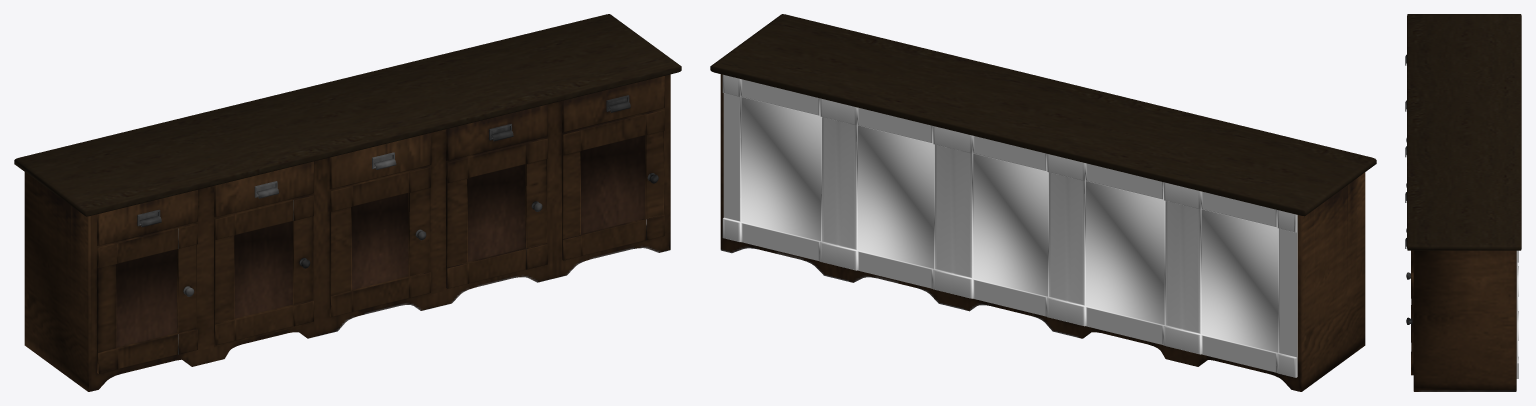
File: kredens.glb
3 renders of one model, left to right at view 1: azimuth 30°, elevation 25°; view 2: azimuth 150°, elevation 25°; view 3: azimuth 270°, elevation 25°, orthographic. The views are drawn at different scales.
Visible parts, largest first — view 1: Cylinder.162; view 2: Cylinder.162; view 3: Cylinder.162.
Boxes of the visible parts, <box> form: Cylinder.162: <box>14,14,681,391</box>; Cylinder.162: <box>710,14,1376,391</box>; Cylinder.162: <box>1405,14,1521,391</box>.
Bounding box in the file's own units: 3.07 × 0.9157 × 0.6485.
Materials: 1 (1 with a texture image).
